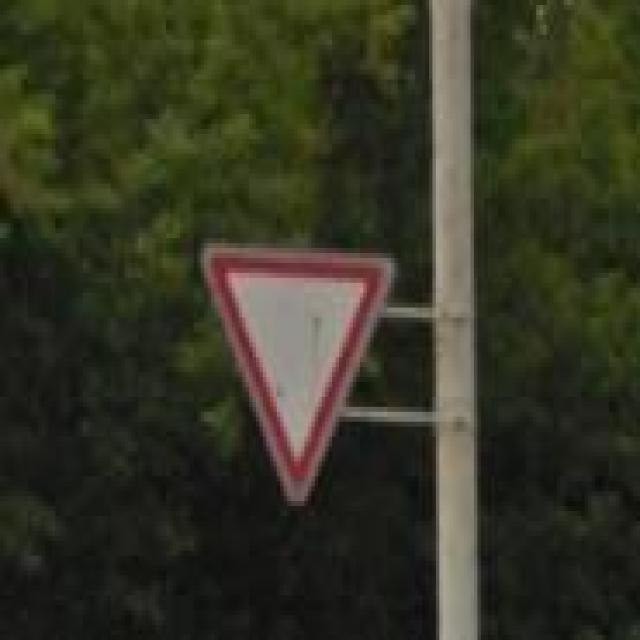give_way: (200, 238, 398, 506)
